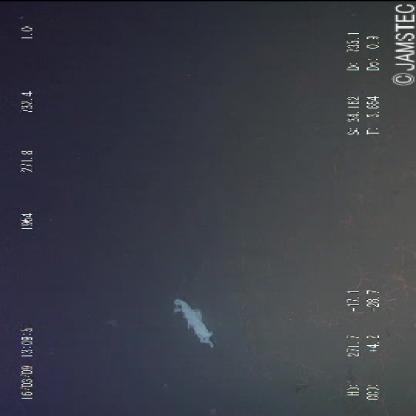Rác: (164, 294, 230, 354)
